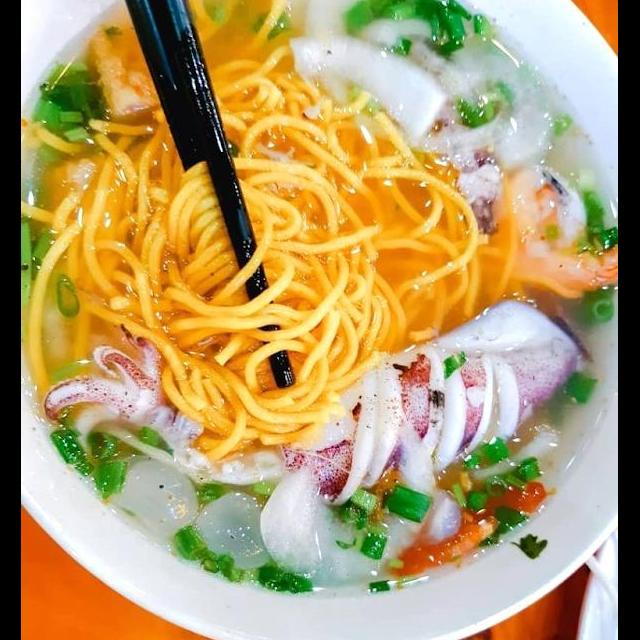muc: (39, 292, 602, 509)
